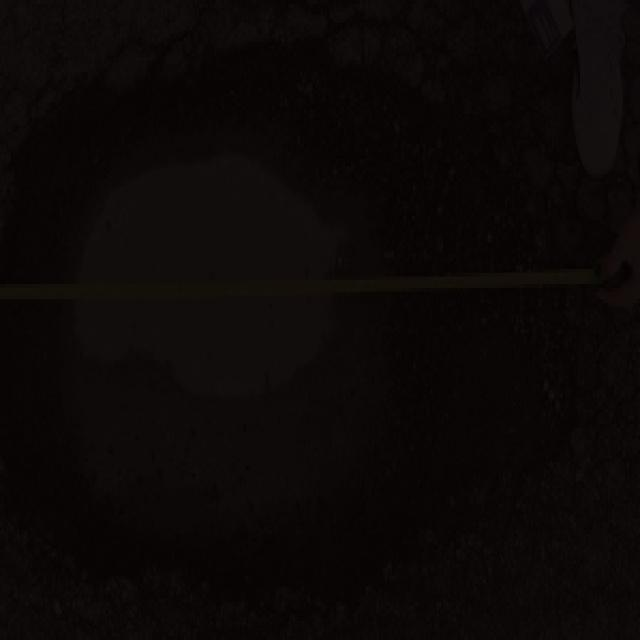Pothole: (14, 70, 562, 534)
